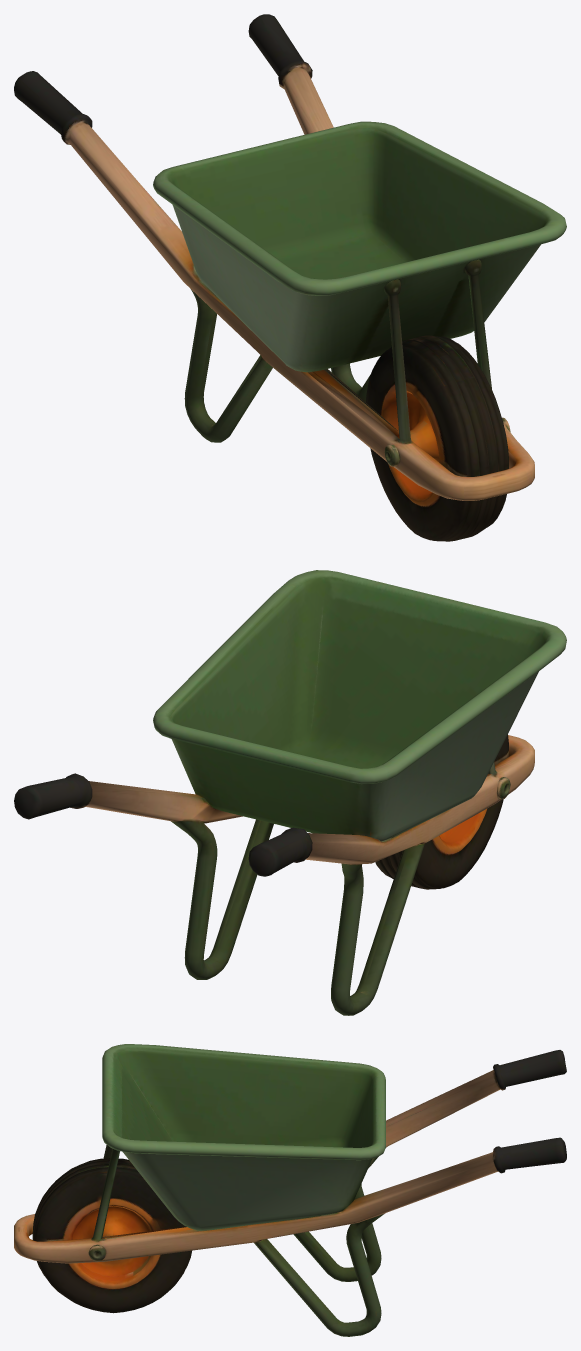
The model's file is Outdoor__a_wheelbarrow_837a89db_v4.cluster.glb.
The picture shows the model from 3 angles, top to bottom: view 1: azimuth 30°, elevation 25°; view 2: azimuth 150°, elevation 25°; view 3: azimuth 270°, elevation 25°; orthographic projection. The views are drawn at different scales.
Visible parts, largest first — view 1: material; view 2: material; view 3: material.
Boxes of the visible parts, x1,y1,x2,y2 form: material: (14,14,566,541); material: (14,570,566,1015); material: (14,1044,566,1336).
Bounding box in the file's own units: 0.8347 × 0.819 × 1.9.
Materials: 1 (1 with a texture image).
